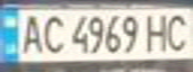4: (66, 11, 90, 54)
6: (103, 11, 124, 54)
9: (118, 11, 145, 54), (84, 12, 106, 54)
A: (15, 11, 48, 55)
C: (39, 11, 69, 55), (163, 10, 193, 53)
H: (142, 10, 175, 53)
